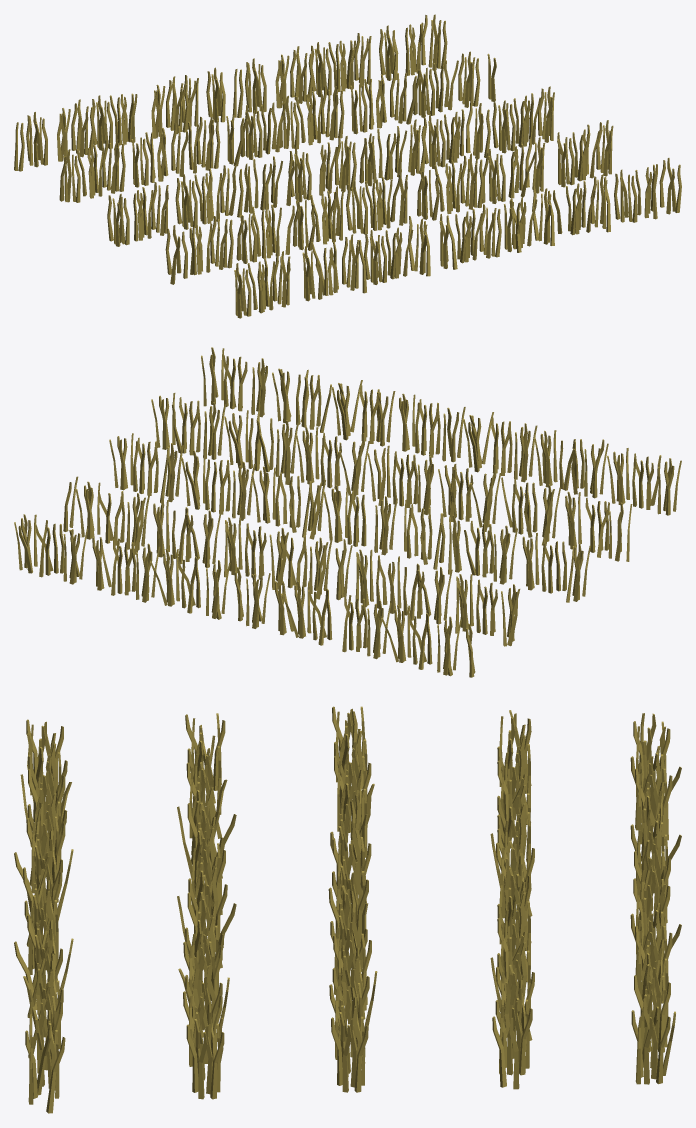
The model's file is Farm_FirstAge_Level3_Wheat.glb.
3 renders of one model, top to bottom at view 1: azimuth 30°, elevation 25°; view 2: azimuth 150°, elevation 25°; view 3: azimuth 270°, elevation 25°, orthographic. The views are drawn at different scales.
Visible parts, largest first — view 1: Farm_FirstAge_Level3_Wheat; view 2: Farm_FirstAge_Level3_Wheat; view 3: Farm_FirstAge_Level3_Wheat.
Boxes of the visible parts, x1,y1,x2,y2 form: Farm_FirstAge_Level3_Wheat: (14, 14, 681, 318); Farm_FirstAge_Level3_Wheat: (14, 347, 681, 677); Farm_FirstAge_Level3_Wheat: (14, 706, 681, 1113).
Bounding box in the file's own units: 1.72 × 0.1883 × 1.45.
